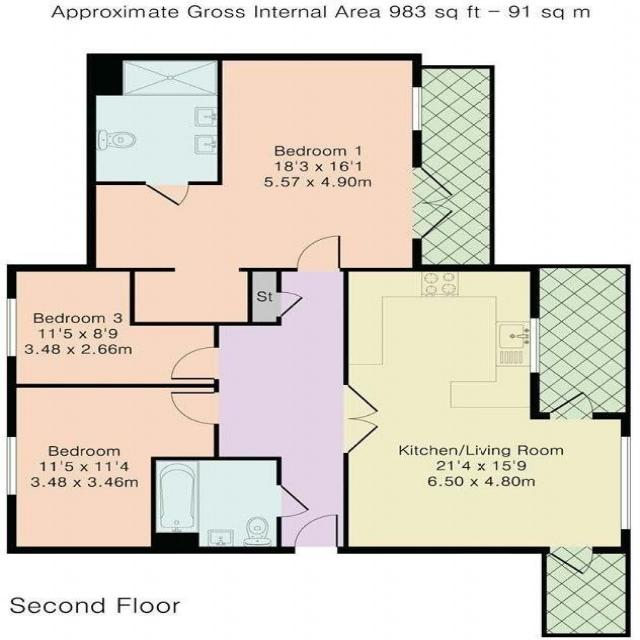DOOR: (291, 509, 341, 554), (166, 343, 221, 381), (168, 390, 220, 427), (295, 233, 344, 272), (537, 546, 598, 577), (541, 387, 598, 420), (139, 180, 193, 208), (277, 482, 311, 520)
DOUBLE DOOR: (411, 162, 457, 246)
ROOM: (342, 264, 631, 579), (83, 54, 458, 271), (7, 383, 313, 555), (6, 264, 220, 390)
WINDOW: (617, 435, 635, 532), (2, 295, 23, 359), (2, 432, 19, 497), (527, 315, 544, 373), (410, 84, 427, 134)
